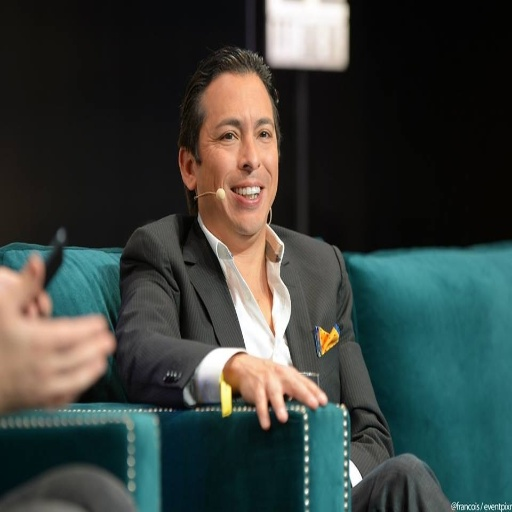hand: (3, 267, 120, 412), (225, 349, 330, 432), (0, 268, 56, 318)
